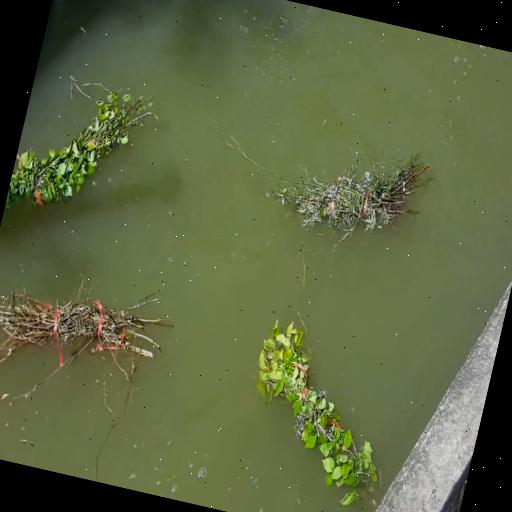twig: (226, 312, 412, 512), (6, 59, 154, 237), (0, 267, 168, 385), (272, 136, 436, 256)
